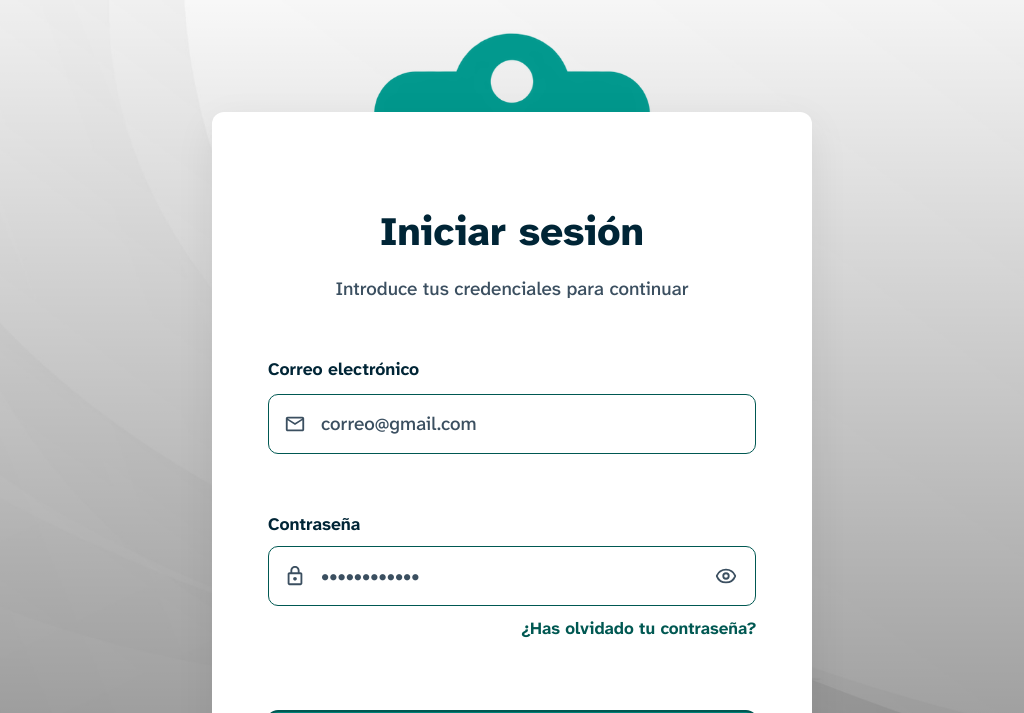
Test: LoginPage › muestra un fallo de autenticación y permite volver a intentarlo
The image size is (1024, 713).
Type "ana@example.com" into the field labelled "Correo electrónico" at (512, 424), box [268, 394, 756, 454]
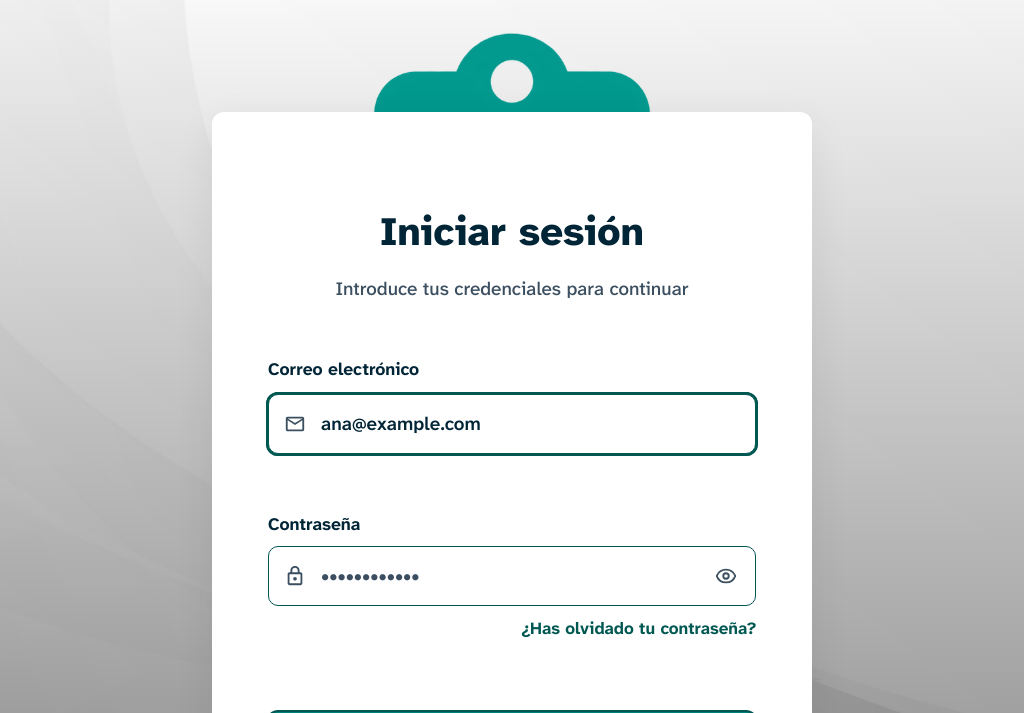
Type "pass123456" into the password field labelled "Contraseña" at (512, 576), box [268, 546, 756, 606]
(page scrolled)
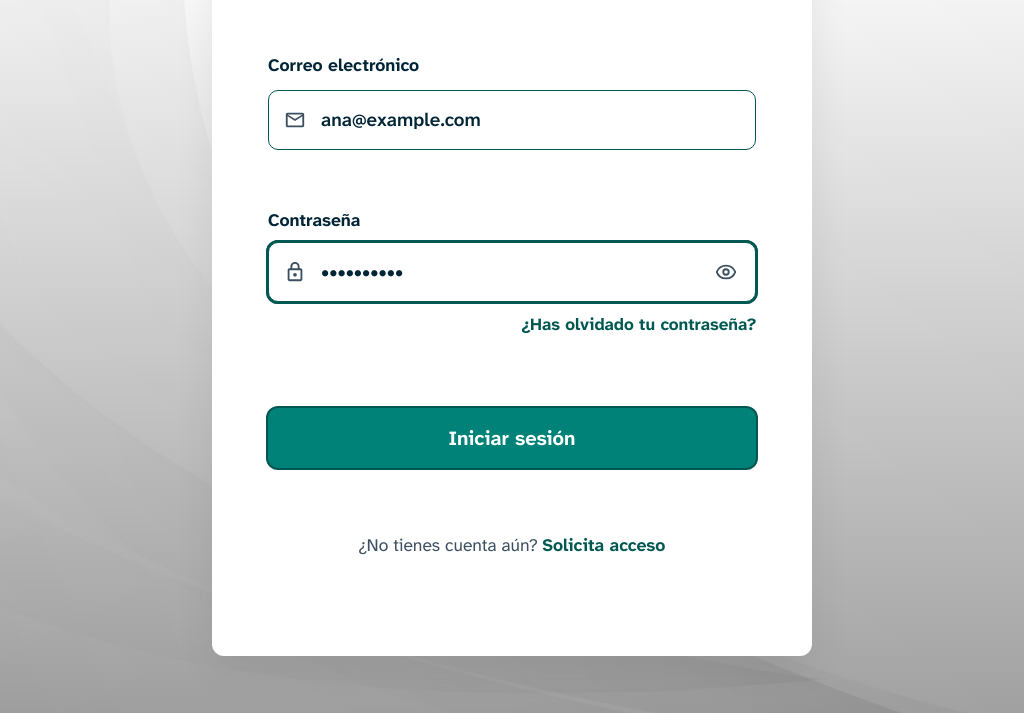
Click the button "Iniciar sesión" at (512, 438), box [268, 408, 756, 468]
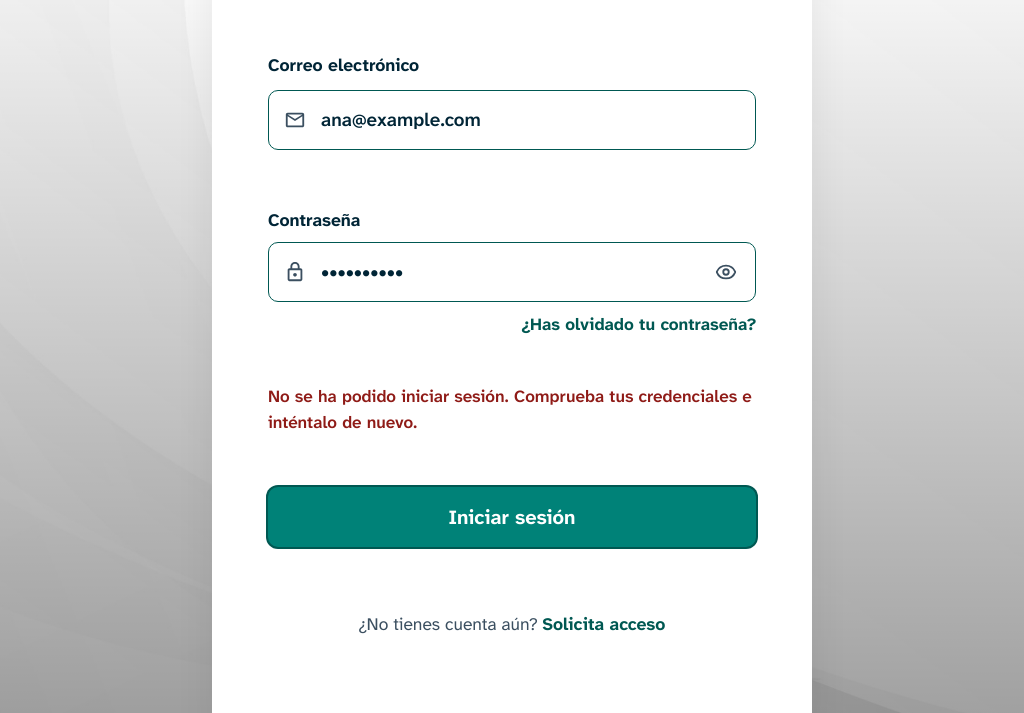
Expected: the button "Iniciar sesión" is enabled, [268, 487, 756, 547]
Result: the message shows "No se ha podido iniciar sesión" at [268, 385, 752, 433]
